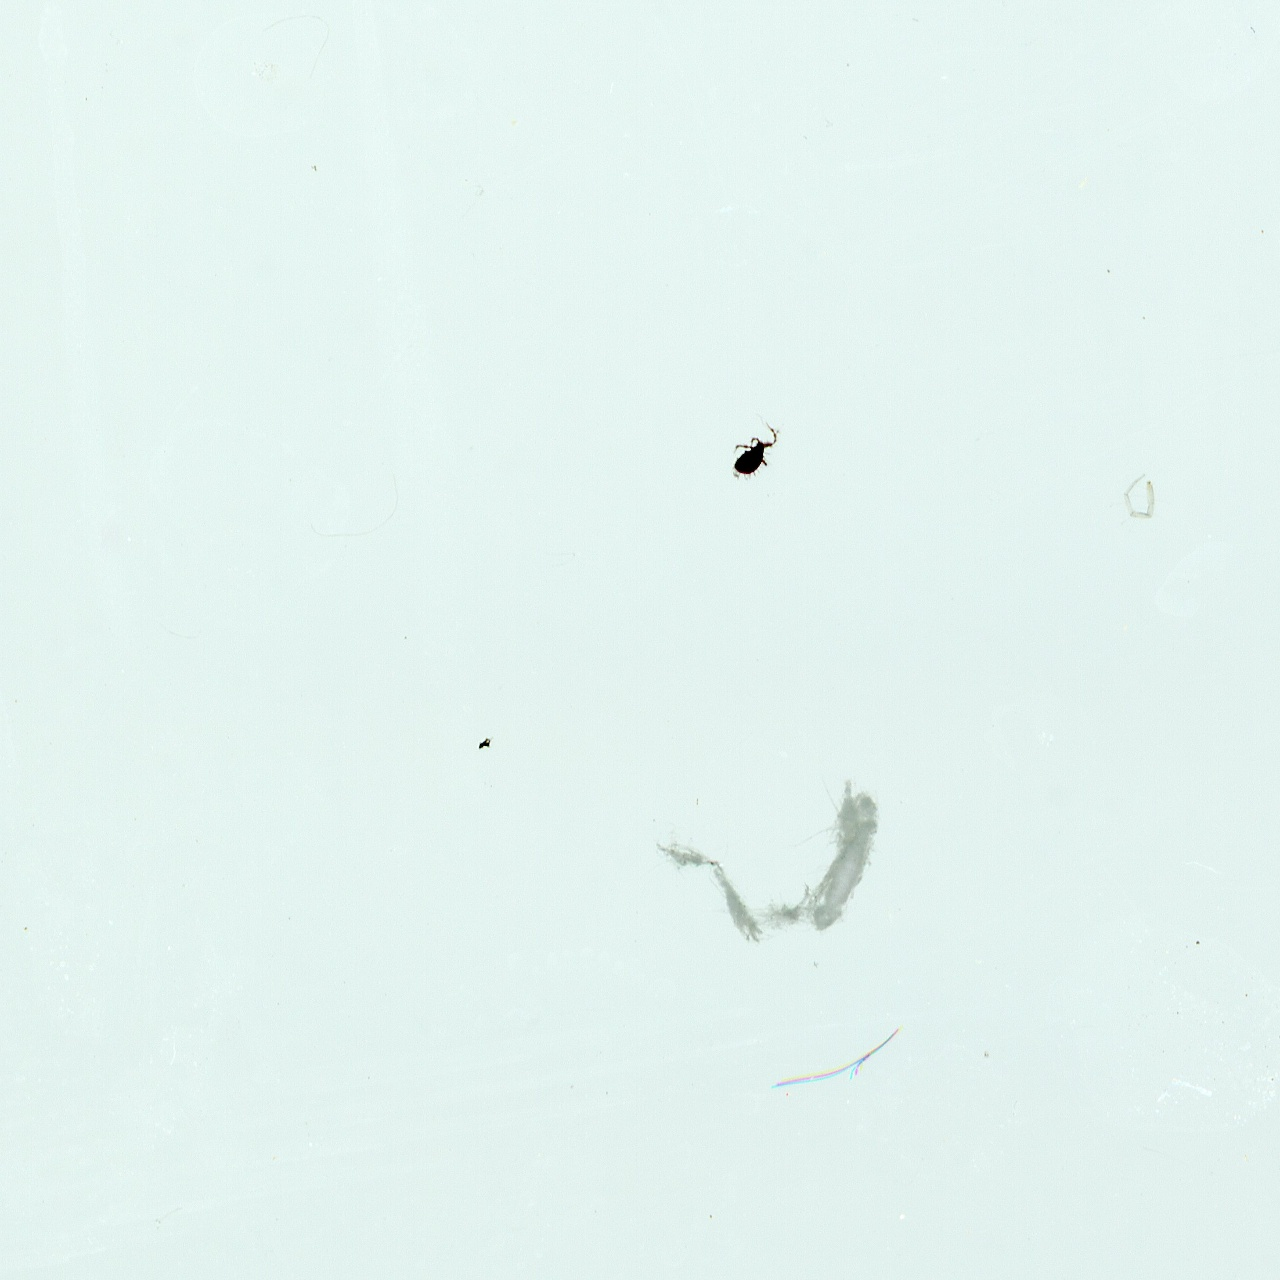arthropod: (727, 420, 788, 482)
